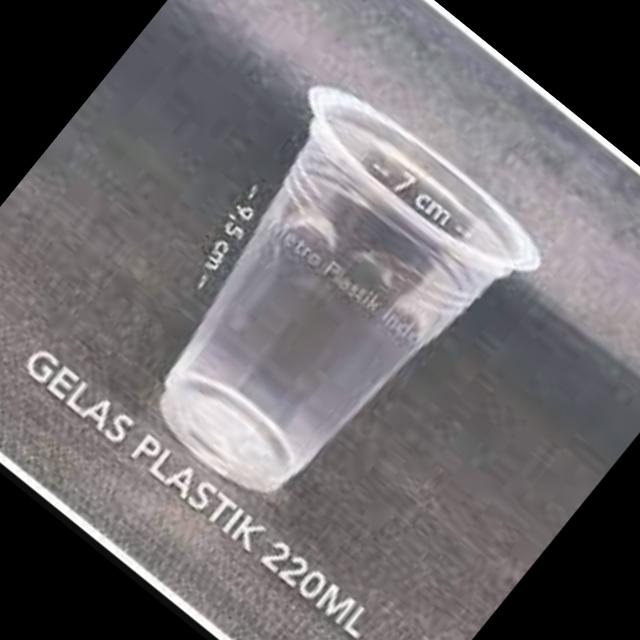GelasPlastik: (82, 62, 556, 550)
